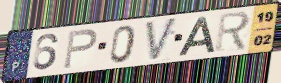0: (109, 24, 138, 64)
6: (32, 33, 61, 72)
A: (176, 15, 217, 58)
P: (62, 28, 99, 70)
R: (214, 10, 251, 54)
V: (144, 15, 179, 63)
